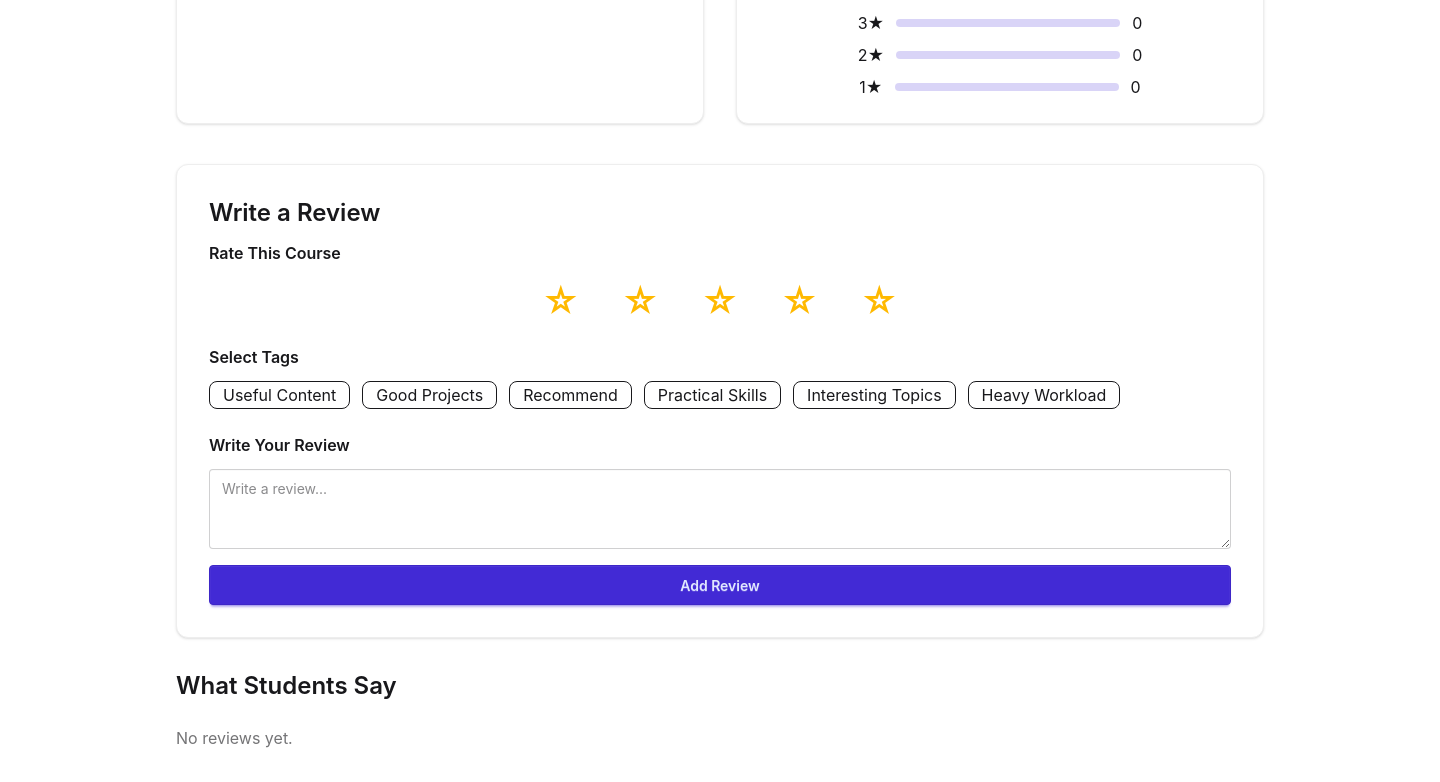
it: submitting an empty review shows a validation message
The image size is (1440, 782).
(page scrolled)
Click the button "Add Review" at (720, 585), box [209,565,1231,605]
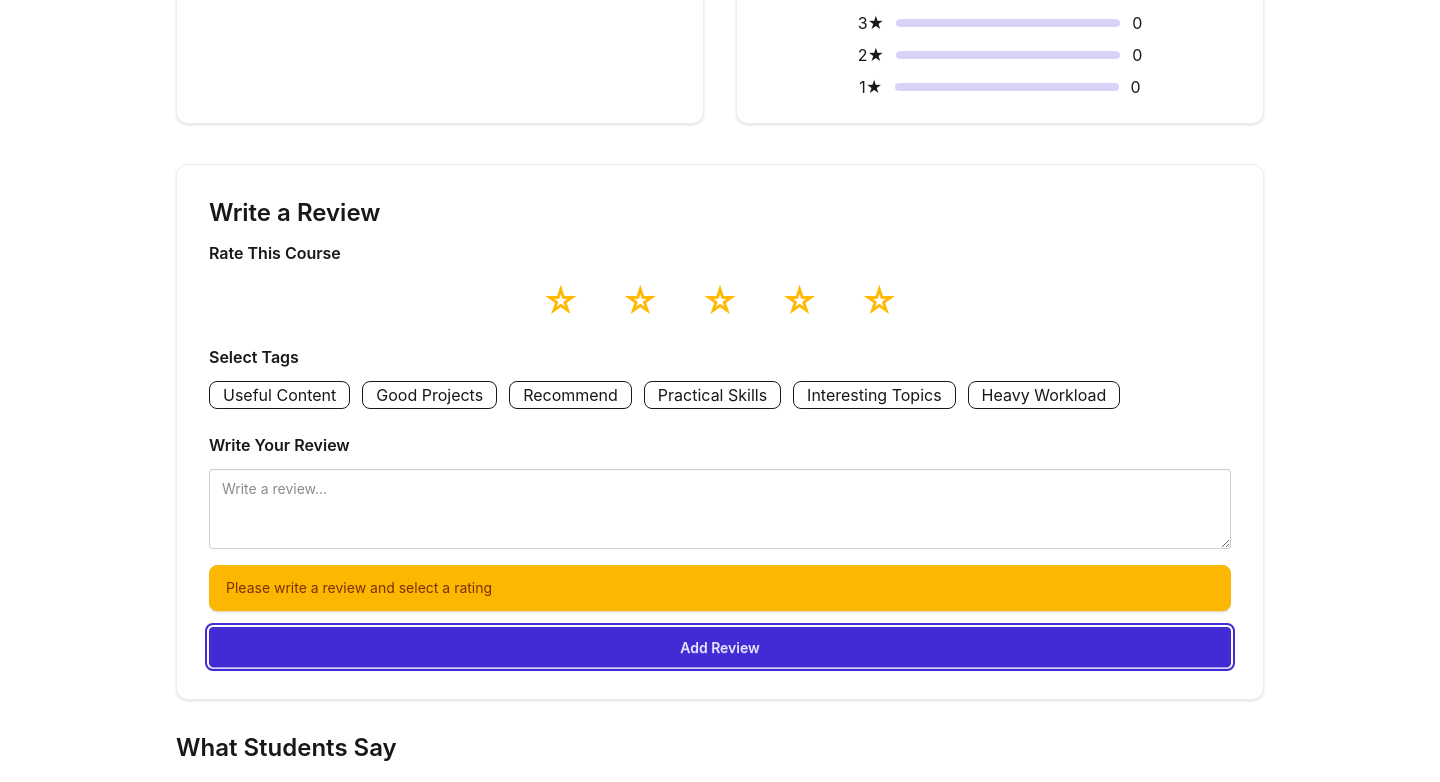
Result: the text "Please write a review and select a rating" is shown at [226,578,492,598]
